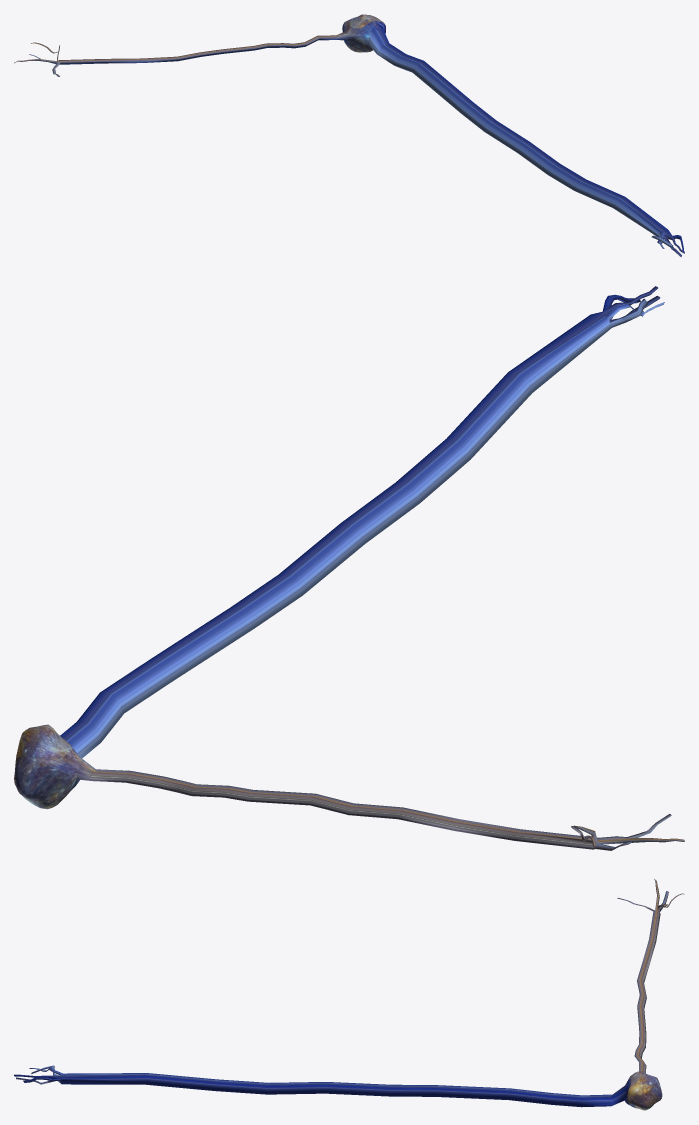
The model's file is lastneuron17.fbx.
3 renders of one model, top to bottom at view 1: azimuth 30°, elevation 25°; view 2: azimuth 150°, elevation 25°; view 3: azimuth 270°, elevation 25°, orthographic. The views are drawn at different scales.
Parts seen in each view (by area): view 1: principal.001 ex; view 2: principal.001 ex; view 3: principal.001 ex.
Boxes of the visible parts, x1=… form: principal.001 ex: x1=14, y1=14, x2=684, y2=256; principal.001 ex: x1=14, y1=286, x2=684, y2=850; principal.001 ex: x1=14, y1=879, x2=684, y2=1110.
Size of the model in its own units: 54298 by 10174 by 89972.
